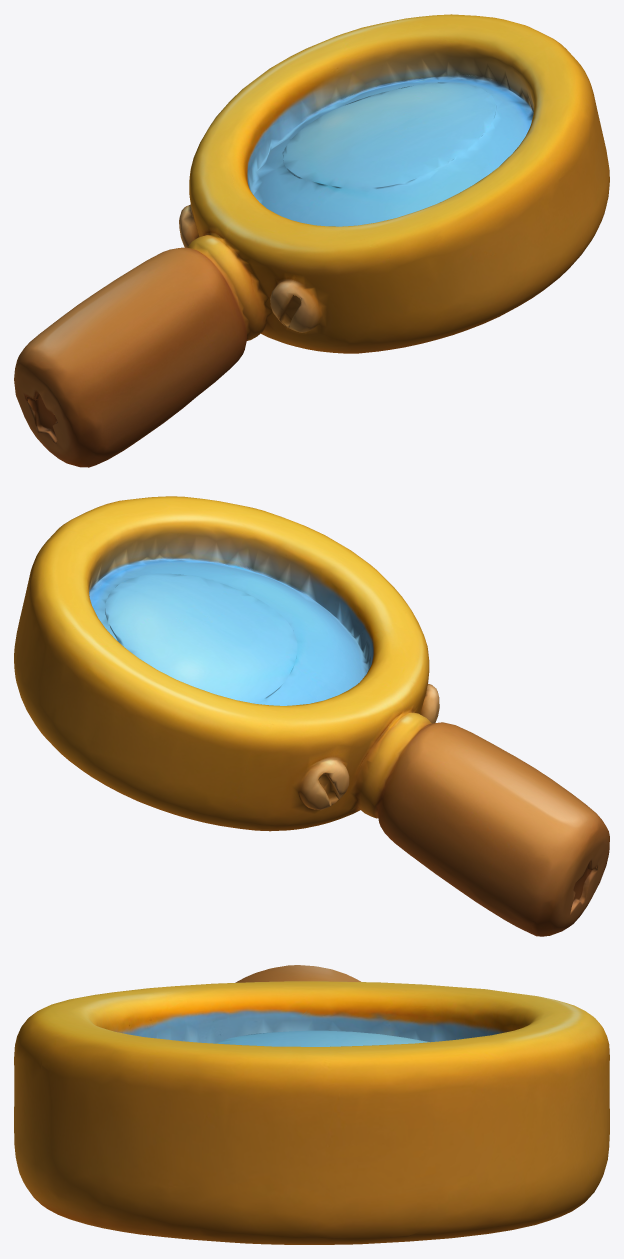
File: cs-magnifier.glb
3 renders of one model, top to bottom at view 1: azimuth 30°, elevation 25°; view 2: azimuth 150°, elevation 25°; view 3: azimuth 270°, elevation 25°, orthographic. The views are drawn at different scales.
Parts seen in each view (by area): view 1: tripo_node_0d52d659-0c84-4ab0-8c7e-da0027890d9e; view 2: tripo_node_0d52d659-0c84-4ab0-8c7e-da0027890d9e; view 3: tripo_node_0d52d659-0c84-4ab0-8c7e-da0027890d9e.
Part boxes in pixels (bbox=[...]): tripo_node_0d52d659-0c84-4ab0-8c7e-da0027890d9e: bbox=[14, 14, 609, 467]; tripo_node_0d52d659-0c84-4ab0-8c7e-da0027890d9e: bbox=[14, 496, 609, 936]; tripo_node_0d52d659-0c84-4ab0-8c7e-da0027890d9e: bbox=[14, 965, 609, 1244].
Bounding box in the file's own units: 1 × 0.5167 × 0.6633.
1 material, 1 textured.
